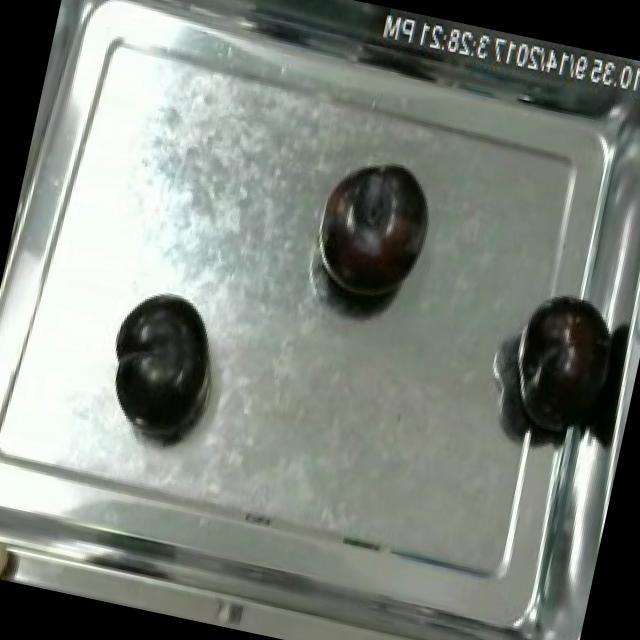Fruit: (90, 280, 230, 450), (307, 149, 444, 317), (497, 281, 619, 448), (0, 513, 26, 582)
